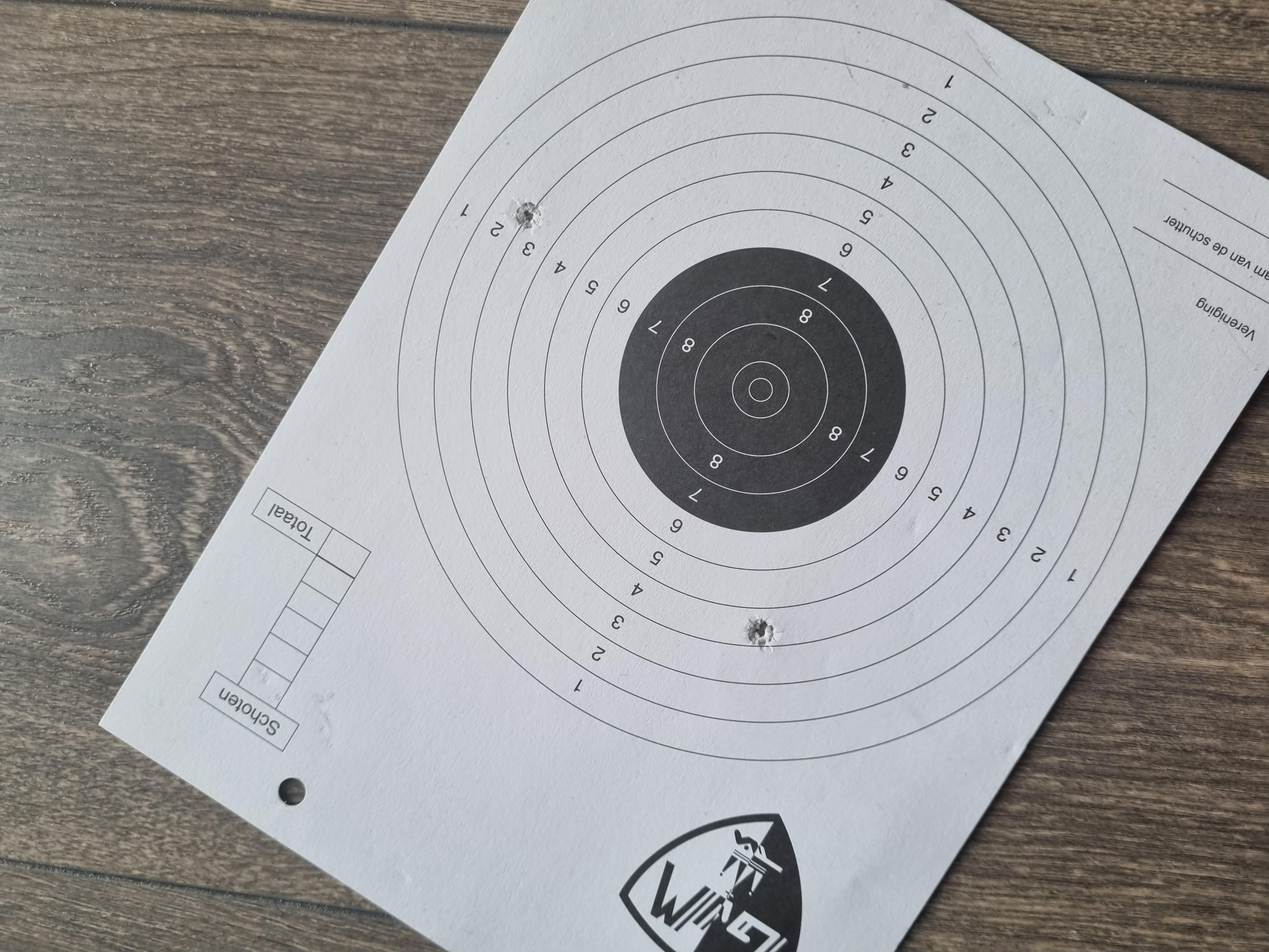hole: (399, 559, 446, 584), (963, 385, 1001, 406)
